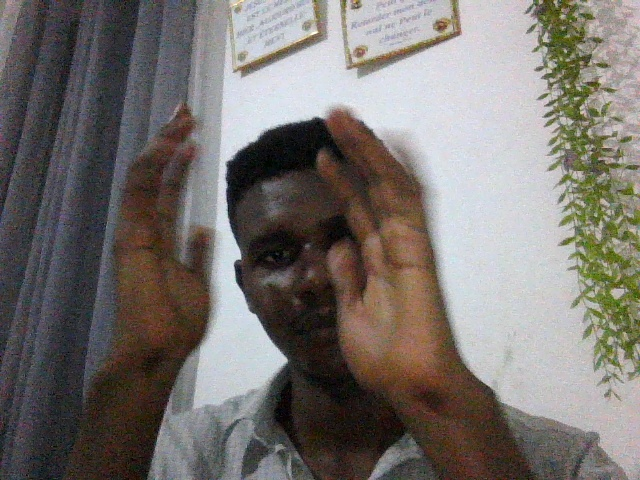hand: (303, 96, 498, 435)
